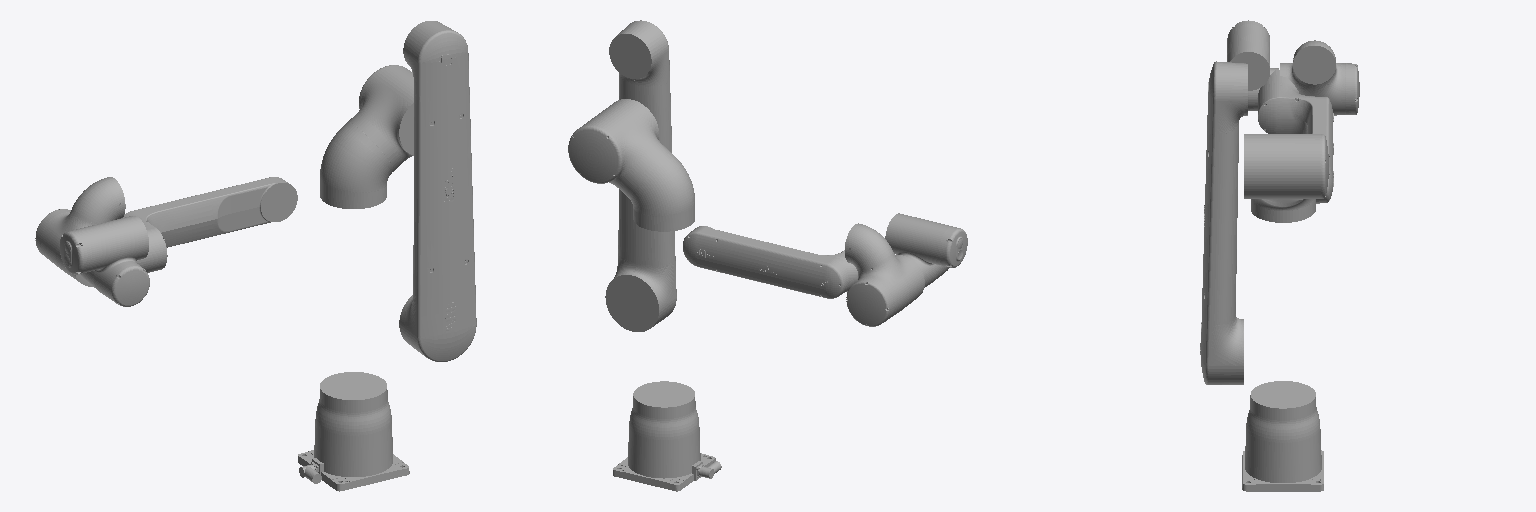
The robot description file, URDF, robot "robotarm":
<?xml version="1.0" ?>
<!-- =================================================================================== -->
<!-- |    This document was autogenerated by xacro from urdf/robotarm.xacro           | -->
<!-- |    EDITING THIS FILE BY HAND IS NOT RECOMMENDED                                 | -->
<!-- =================================================================================== -->
<robot name="robotarm">
  <material name="silver">
    <color rgba="0.700 0.700 0.700 1.000"/>
  </material>

  <link name="base_link">
    <visual>
      <origin rpy="0 0 0" xyz="0 0 0"/>
      <geometry>
        <mesh filename="package://robotarm_pkg/meshes/1.stl" scale="1 1 1"/>
      </geometry>
      <material name="silver"/>
    </visual>
  </link>
  <link name="gofaLink1_1">
    <visual>
      <origin rpy="0 0 0" xyz="0.0 0.0 0.5"/>
      <geometry>
        <mesh filename="package://robotarm_pkg/meshes/2.stl" scale="1 1 1"/>
      </geometry>
      <material name="silver"/>
    </visual>
  </link>
  <link name="gofaLink2_1">
    <visual>
      <!-- <origin rpy="0 0 0" xyz="-0.15 0.09515 -0.399"/> -->
      <origin rpy="0 0 0" xyz="0 0 0"/>
      <geometry>
        <mesh filename="package://robotarm_pkg/meshes/3.stl" scale="1 1 1"/>
      </geometry>
      <material name="silver"/>
    </visual>
  </link>
  <link name="gofaLink3_1">
    <visual>
      <origin rpy="0 0 0" xyz="-0.857 0.0853 -0.399"/>
      <geometry>
        <mesh filename="package://robotarm_pkg/meshes/4.stl" scale="1 1 1"/>
      </geometry>
      <material name="silver"/>
    </visual>
  </link>
  <link name="gofaLink4_1">
    <visual>
      <origin rpy="0 0 0" xyz="-0.953 0.0003 -0.509"/>
      <geometry>
        <mesh filename="package://robotarm_pkg/meshes/5.stl" scale="1 1 1"/>
      </geometry>
      <material name="silver"/>
    </visual>
  </link>
  <link name="gofaLink5_1">
    <visual>
      <origin rpy="0 0 0" xyz="-1.492883 -0.0752 -0.509"/>
      <geometry>
        <mesh filename="package://robotarm_pkg/meshes/6.stl" scale="1 1 1"/>
      </geometry>
      <material name="silver"/>
    </visual>
  </link>
  <link name="gofaLink6_1">
    <visual>
      <origin rpy="0 0 0" xyz="-1.560883 -0.0007 -0.589"/>
      <geometry>
        <mesh filename="package://robotarm_pkg/meshes/7.stl" scale="1 1 1"/>
      </geometry>
      <material name="silver"/>
    </visual>
  </link>


  <!-- <joint name="Revolute 1" type="revolute">
    <origin rpy="0 0 0" xyz="0.0 0.0 0.214"/>
    <parent link="base_link"/>
    <child link="gofaLink1_1"/>
    <axis xyz="-0.0 0.0 1.0"/>
    <limit lower="-4.712389" upper="4.712389" velocity="3.054" effort="100.0"/>
  </joint>
  <joint name="Revolute 2" type="revolute">
    <origin rpy="0 0 0" xyz="-0.15 0.09515 -0.399"/>
    <parent link="gofaLink1_1"/>
    <child link="gofaLink2_1"/>
    <axis xyz="0.0 -1.0 -0.0"/>
    <limit lower="-3.1416" upper="3.1416" velocity="3.054" effort="100.0"/>
  </joint>
  <joint name="Revolute 3" type="revolute">
    <origin rpy="0 0 0" xyz="0.707 0.00985 0.0"/>
    <parent link="gofaLink2_1"/>
    <child link="gofaLink3_1"/>
    <axis xyz="0.0 1.0 -0.0"/>
    <limit lower="-3.9270" upper="1.48353" velocity="3.054" effort="100.0"/>
  </joint>
  <joint name="Revolute 4" type="revolute">
    <origin rpy="0 0 0" xyz="0.096 0.085 0.11"/>
    <parent link="gofaLink3_1"/>
    <child link="gofaLink4_1"/>
    <axis xyz="1.0 -0.0 0.0"/>
    <limit lower="-3.1416" upper="3.1416" velocity="3.054" effort="100.0"/>
  </joint>
  <joint name="Revolute 5" type="revolute">
    <origin rpy="0 0 0" xyz="0.539883 0.0755 0.0"/>
    <parent link="gofaLink4_1"/>
    <child link="gofaLink5_1"/>
    <axis xyz="-0.0 -1.0 -0.0"/>
    <limit lower="-3.1416" upper="3.1416" velocity="3.054" effort="100.0"/>
  </joint>
  <joint name="Revolute 6" type="revolute">
    <origin rpy="0 0 0" xyz="0.068 -0.0745 0.08"/>
    <parent link="gofaLink5_1"/>
    <child link="gofaLink6_1"/>
    <axis xyz="1.0 -0.0 -0.0"/>
    <limit lower="-4.7124" upper="4.7124" velocity="3.054" effort="100.0"/>
  </joint> -->
  <joint name="Revolute 1" type="revolute">
    <origin rpy="0 0 0" xyz="0.0 0.0 0.214"/>
    <parent link="base_link"/>
    <child link="gofaLink1_1"/>
    <axis xyz="-0.0 0.0 1.0"/>
    <limit lower="-4.712389" upper="4.712389" velocity="3.054" effort="100.0"/>
  </joint>
  <joint name="Revolute 2" type="revolute">
    <origin rpy="0 0 0" xyz="0.15 -0.09515 0.185"/>
    <parent link="gofaLink1_1"/>
    <child link="gofaLink2_1"/>
    <axis xyz="0.0 1.0 -0.0"/>
    <limit lower="-3.1416" upper="3.1416" velocity="3.054" effort="100.0"/>
  </joint>
  <joint name="Revolute 3" type="revolute">
    <origin rpy="0 0 0" xyz="0 0.0 0.707 "/>
    <parent link="gofaLink2_1"/>
    <child link="gofaLink3_1"/>
    <axis xyz="0.0 1.0 -0.0"/>
    <limit lower="-3.9270" upper="1.48353" velocity="3.054" effort="100.0"/>
  </joint>
  <joint name="Revolute 4" type="revolute">
    <origin rpy="0 0 0" xyz="0.096 0.085 0.11"/>
    <parent link="gofaLink3_1"/>
    <child link="gofaLink4_1"/>
    <axis xyz="1.0 -0.0 0.0"/>
    <limit lower="-3.1416" upper="3.1416" velocity="3.054" effort="100.0"/>
  </joint>
  <joint name="Revolute 5" type="revolute">
    <origin rpy="0 0 0" xyz="0.539883 0.0755 0.0"/>
    <parent link="gofaLink4_1"/>
    <child link="gofaLink5_1"/>
    <axis xyz="-0.0 1.0 -0.0"/>
    <limit lower="-3.1416" upper="3.1416" velocity="3.054" effort="100.0"/>
  </joint>
  <joint name="Revolute 6" type="revolute">
    <origin rpy="0 0 0" xyz="0.068 -0.0745 0.08"/>
    <parent link="gofaLink5_1"/>
    <child link="gofaLink6_1"/>
    <axis xyz="1.0 -0.0 -0.0"/>
    <limit lower="-4.7124" upper="4.7124" velocity="3.054" effort="100.0"/>
  </joint>
</robot>

--- What the picture shows (computed from the rendered views, not written in the file) ---
The picture shows the robot from 3 angles, left to right: view 1: azimuth 30°, elevation 25°; view 2: azimuth 150°, elevation 25°; view 3: azimuth 270°, elevation 25°; orthographic projection.
Robot: robotarm — 7 links, 6 joints (6 revolute); root link base_link; default pose: all joints at 0.
Visible links, largest first — view 1: gofaLink2_1, gofaLink1_1, base_link, gofaLink4_1, gofaLink5_1, gofaLink3_1; view 2: gofaLink2_1, gofaLink1_1, base_link, gofaLink4_1, gofaLink3_1, gofaLink5_1; view 3: gofaLink2_1, base_link, gofaLink1_1, gofaLink4_1, gofaLink3_1, gofaLink5_1.
Link boxes in pixels (x1,y1,x2,y2): gofaLink2_1: (399, 21, 476, 361); gofaLink1_1: (320, 65, 413, 208); base_link: (298, 372, 409, 491); gofaLink4_1: (123, 177, 297, 272); gofaLink5_1: (60, 216, 149, 306); gofaLink3_1: (35, 177, 125, 286); gofaLink2_1: (605, 20, 676, 331); gofaLink1_1: (568, 99, 694, 231); base_link: (613, 381, 721, 491); gofaLink4_1: (683, 226, 857, 298); gofaLink3_1: (845, 223, 924, 326); gofaLink5_1: (885, 213, 967, 287); gofaLink2_1: (1200, 61, 1247, 384); base_link: (1242, 381, 1323, 491); gofaLink1_1: (1244, 134, 1328, 222); gofaLink4_1: (1258, 70, 1333, 203); gofaLink3_1: (1280, 40, 1359, 115); gofaLink5_1: (1227, 20, 1278, 110).
Bounding box of the posed robot: 1.07 × 0.3891 × 1.17 m (x, y, z).
Meshes: 7 distinct files referenced, 7 mesh visuals loaded (7 binary STL).
